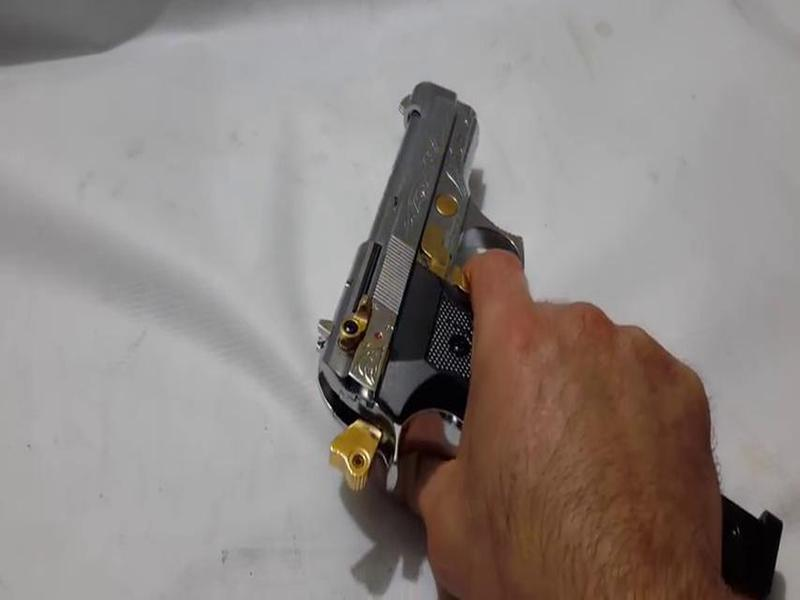Pistola: (302, 54, 793, 537)
